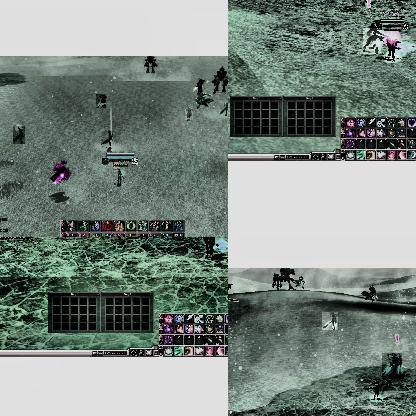caliana: (382, 353, 402, 379), (363, 28, 381, 54), (322, 312, 338, 330), (13, 126, 25, 144), (101, 131, 113, 149), (96, 94, 106, 108), (219, 102, 228, 115), (185, 108, 193, 120)
